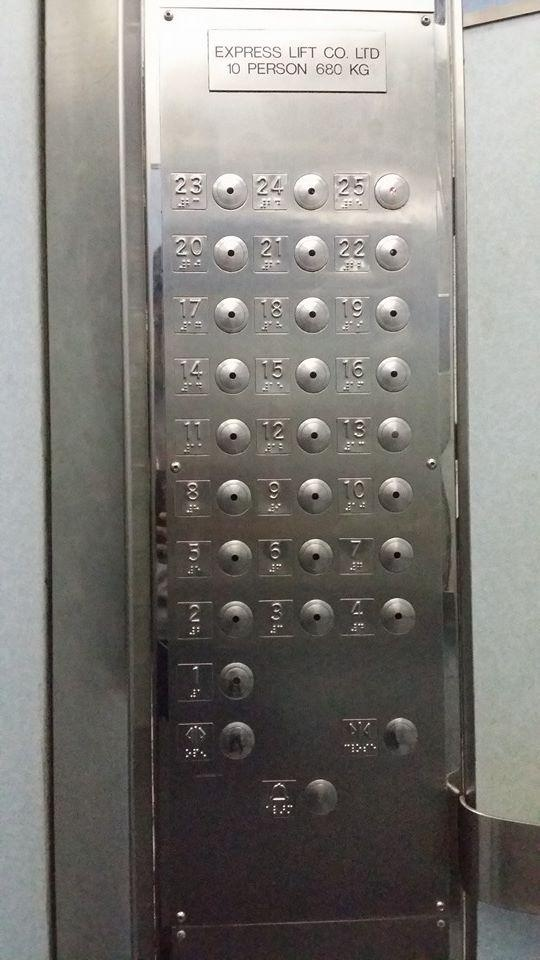1: (174, 661, 215, 702)
10: (334, 475, 375, 516)
11: (171, 415, 212, 456)
12: (253, 415, 295, 457)
13: (334, 414, 376, 456)
14: (170, 354, 211, 395)
15: (253, 354, 292, 395)
16: (334, 354, 373, 395)
17: (169, 293, 210, 334)
18: (252, 293, 293, 334)
19: (333, 293, 374, 334)
2: (174, 598, 215, 639)
20: (168, 233, 209, 274)
21: (251, 233, 292, 274)
22: (332, 232, 372, 274)
23: (167, 170, 209, 213)
24: (250, 170, 290, 212)
25: (332, 170, 372, 212)
3: (255, 597, 296, 638)
4: (336, 595, 377, 636)
5: (173, 538, 214, 579)
6: (255, 537, 296, 578)
7: (336, 534, 377, 575)
8: (173, 477, 214, 518)
9: (254, 476, 295, 517)
alarm: (258, 776, 299, 817)
close: (339, 716, 380, 757)
empty: (209, 170, 250, 213), (291, 170, 332, 213), (371, 170, 412, 213), (372, 231, 413, 274), (291, 232, 332, 275), (210, 233, 251, 276), (211, 293, 252, 336), (292, 293, 333, 336), (373, 292, 414, 335), (212, 354, 253, 397), (293, 353, 334, 396), (373, 353, 414, 396), (374, 413, 415, 456), (294, 414, 335, 457), (213, 415, 254, 458), (213, 476, 254, 519), (295, 475, 336, 518), (375, 473, 416, 516), (376, 533, 417, 576), (296, 535, 337, 578), (213, 537, 254, 580), (214, 598, 255, 641), (295, 596, 336, 639), (377, 595, 418, 638), (216, 659, 257, 702), (215, 719, 256, 762), (299, 776, 340, 819), (380, 715, 421, 758)
open: (174, 720, 215, 761)
